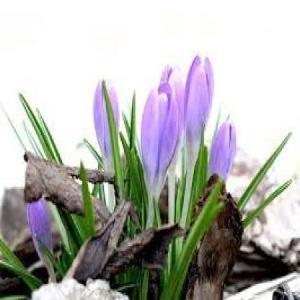Saffron: (141, 82, 176, 198), (25, 184, 60, 276), (185, 53, 213, 162), (94, 78, 120, 176), (204, 122, 238, 188)
